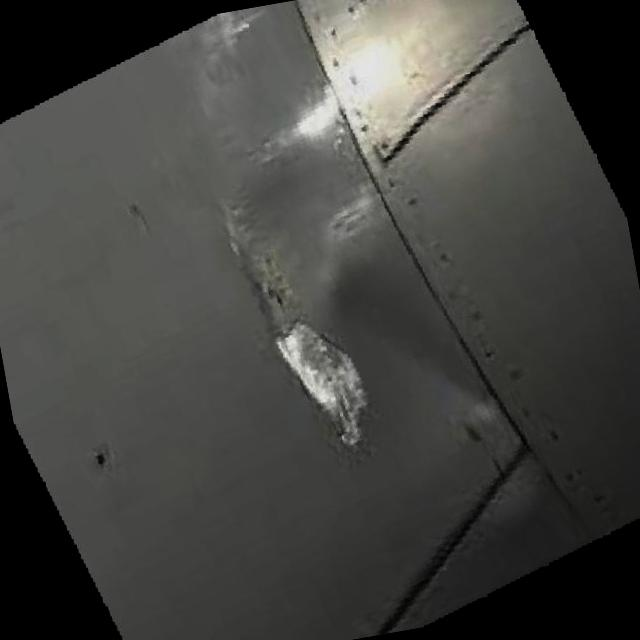dent: (215, 180, 378, 454), (354, 242, 498, 438)
